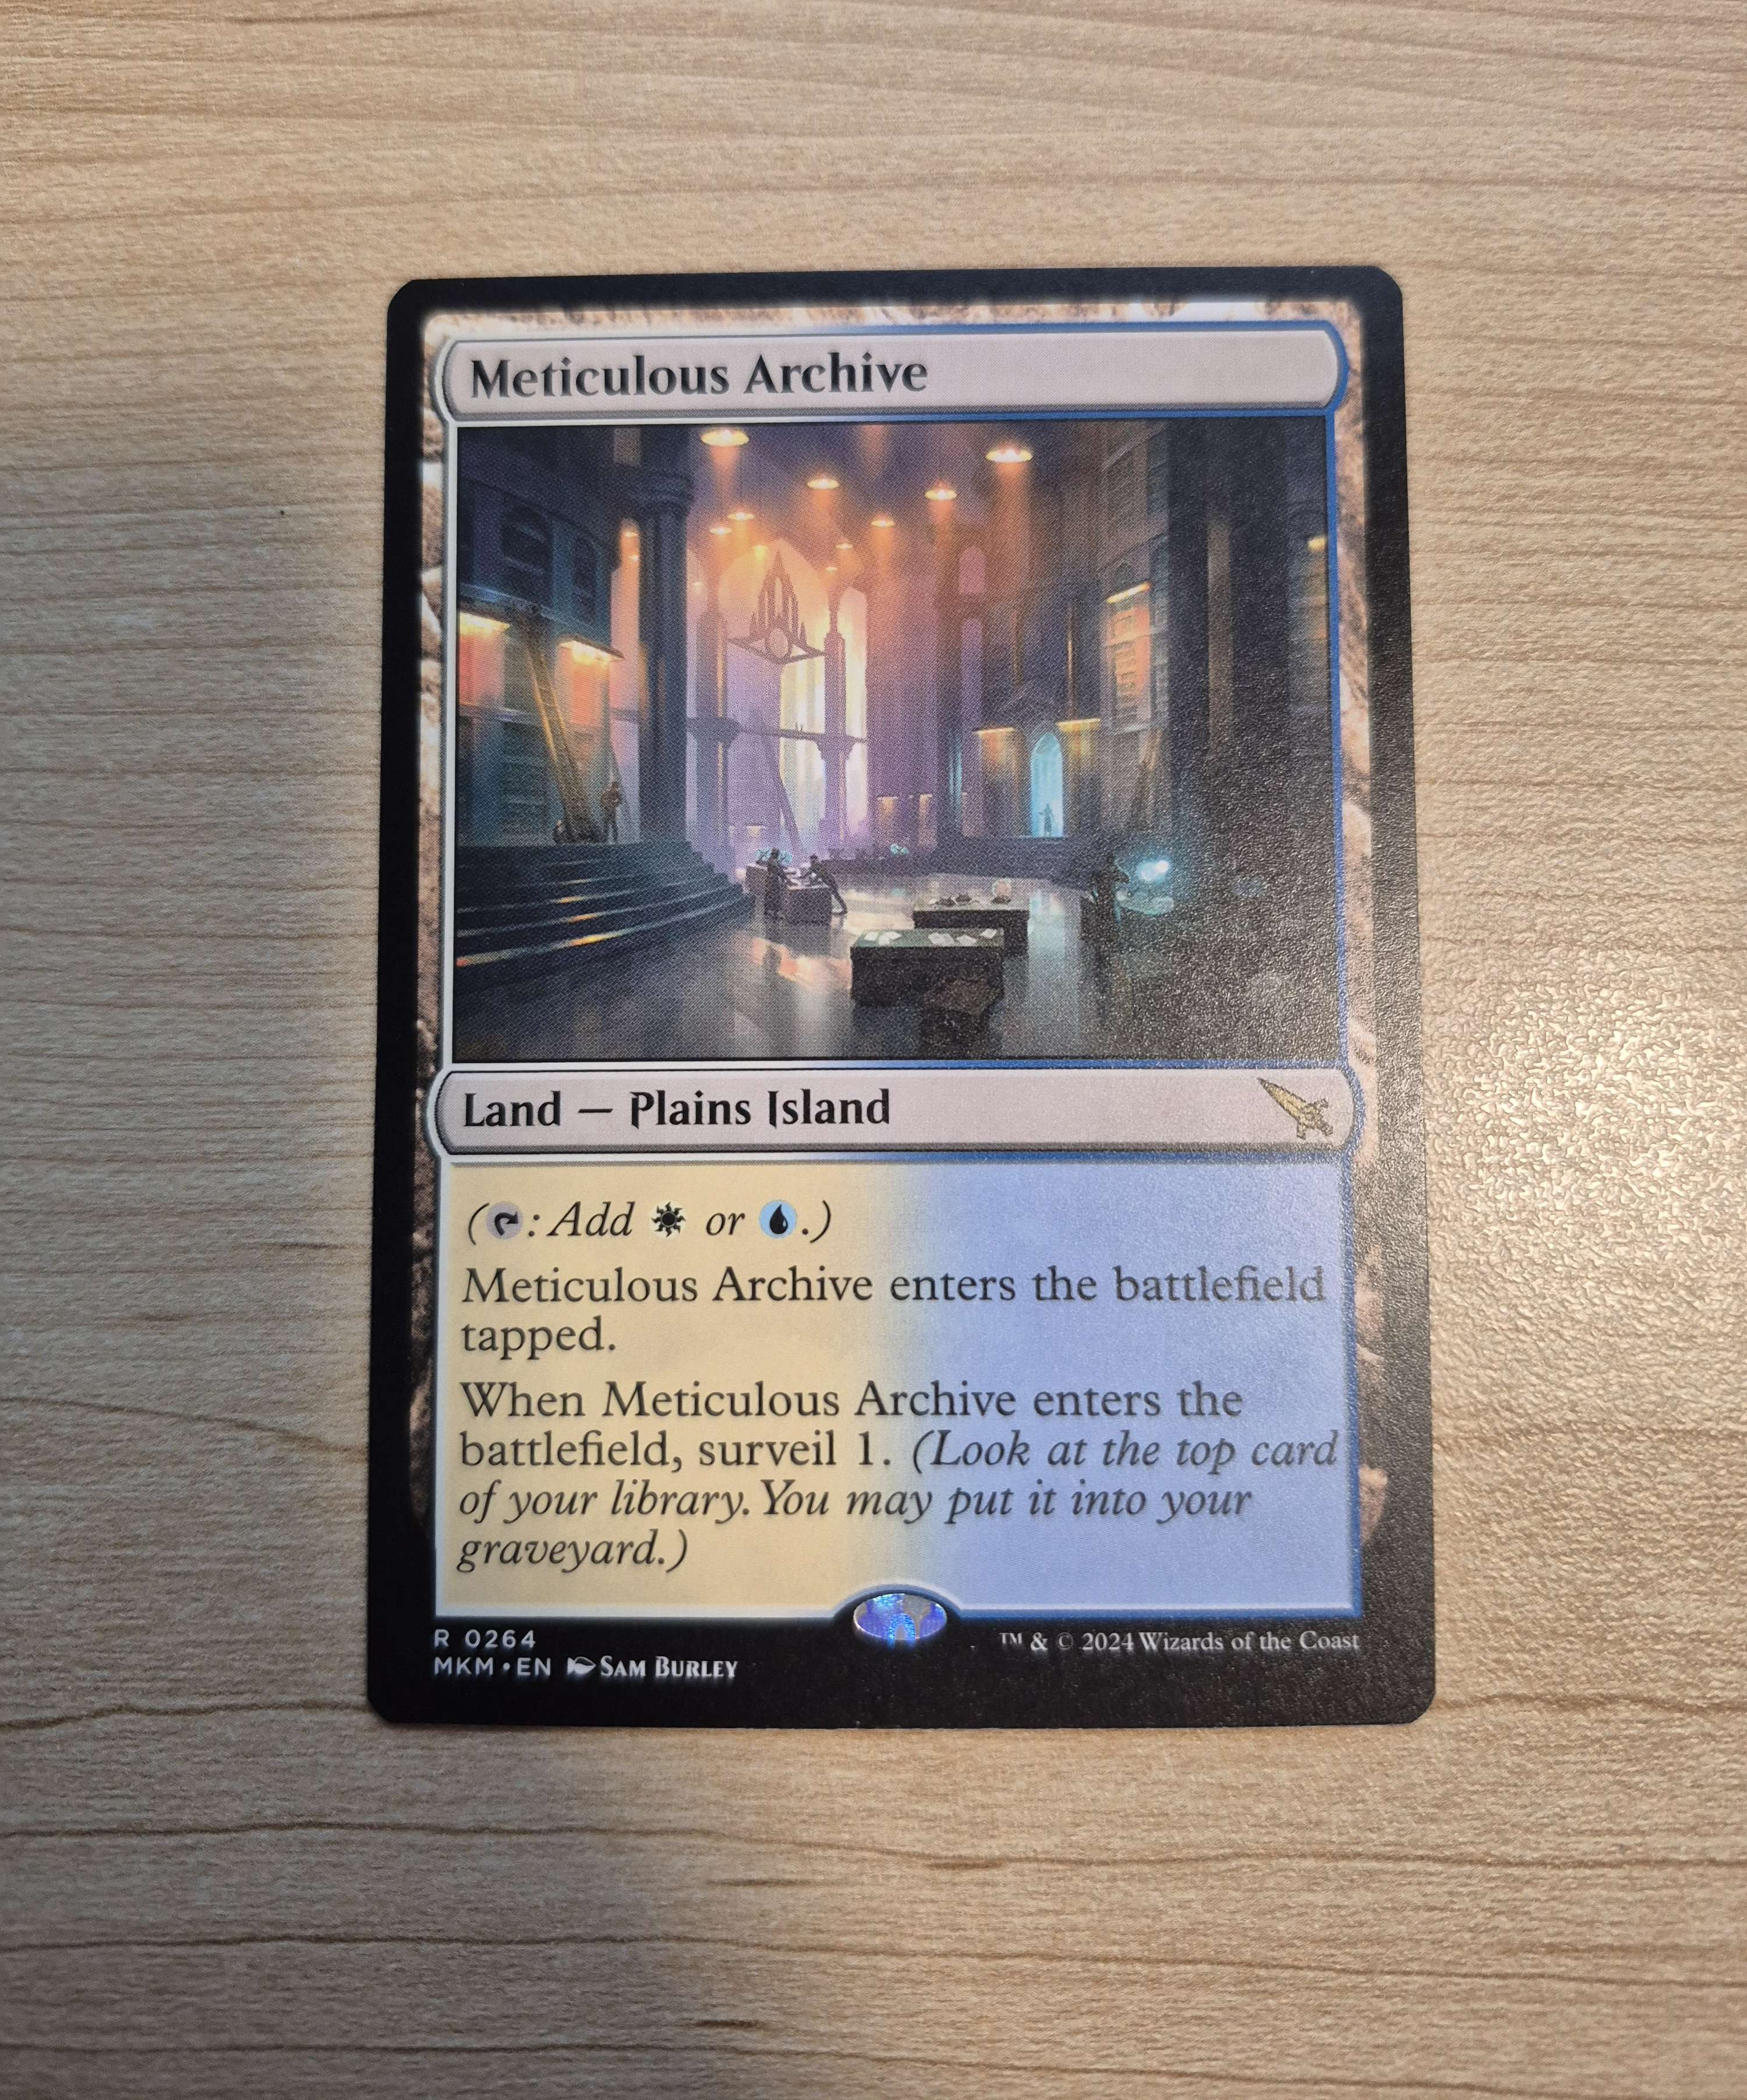mtg_card: (359, 281, 1496, 1735)
